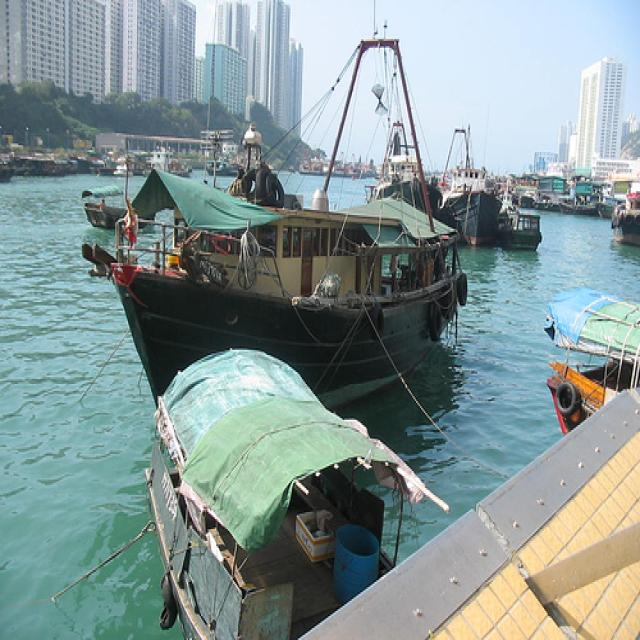boat: (114, 165, 464, 416), (145, 351, 405, 639), (546, 284, 640, 438), (435, 162, 503, 249), (366, 153, 439, 218), (82, 182, 156, 230), (499, 206, 544, 254), (610, 189, 640, 252)
